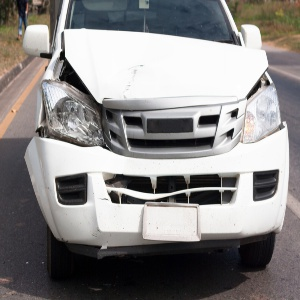bonnet: (67, 29, 246, 102)
bumper: (21, 135, 125, 246)
